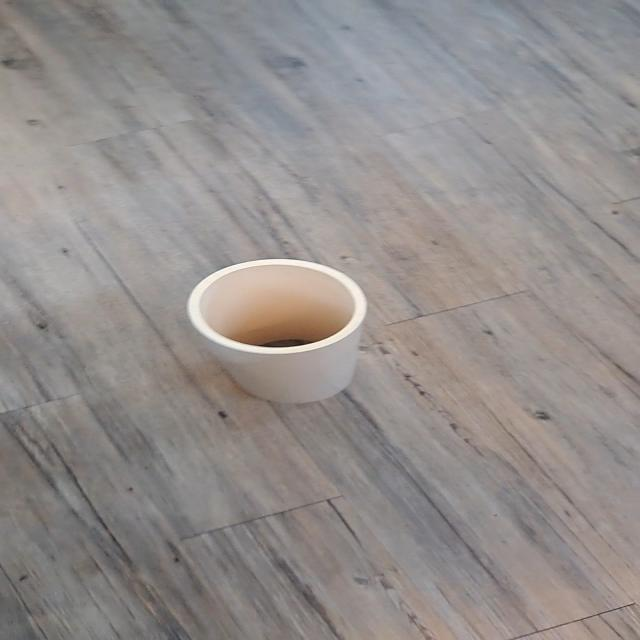CORAL: (172, 230, 386, 416)
